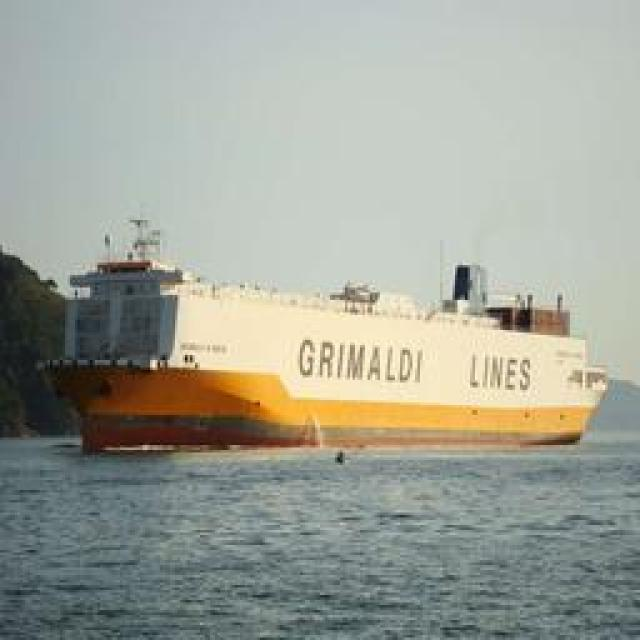CIV_Ship: (34, 218, 608, 452)
